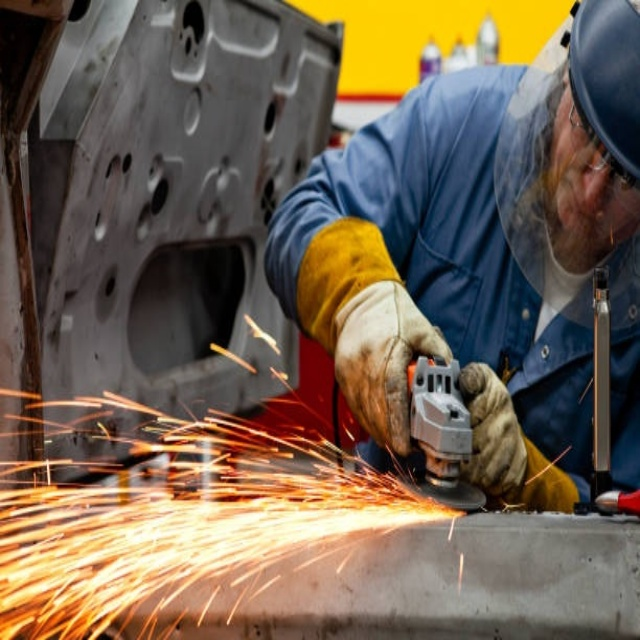Gafas: (570, 89, 639, 192)
Guantes: (292, 210, 452, 471), (457, 353, 580, 521)
Sin_mascara: (552, 173, 605, 253)
